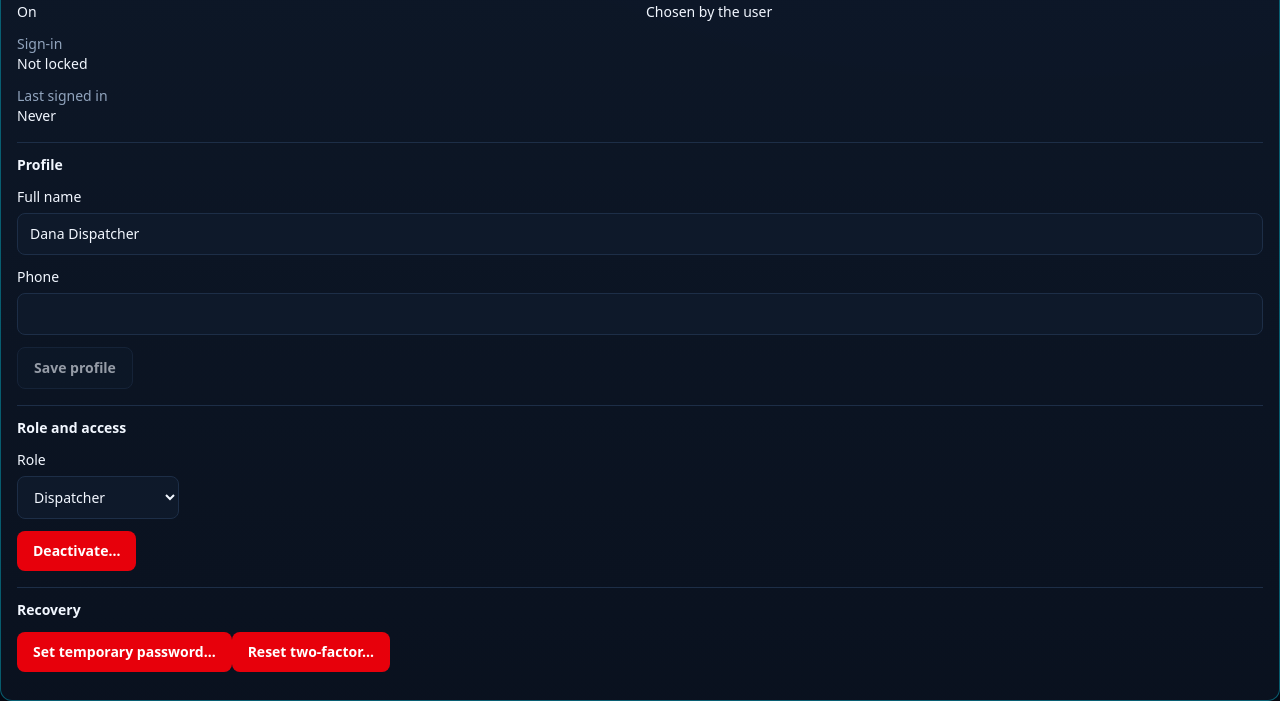
Test: UserDetail › sets a temporary password only after a confirmation, then shows it once
(page scrolled)
Click the button "Set temporary password…" at (124, 652), box left=17, top=632, right=232, bottom=672
(page scrolled)
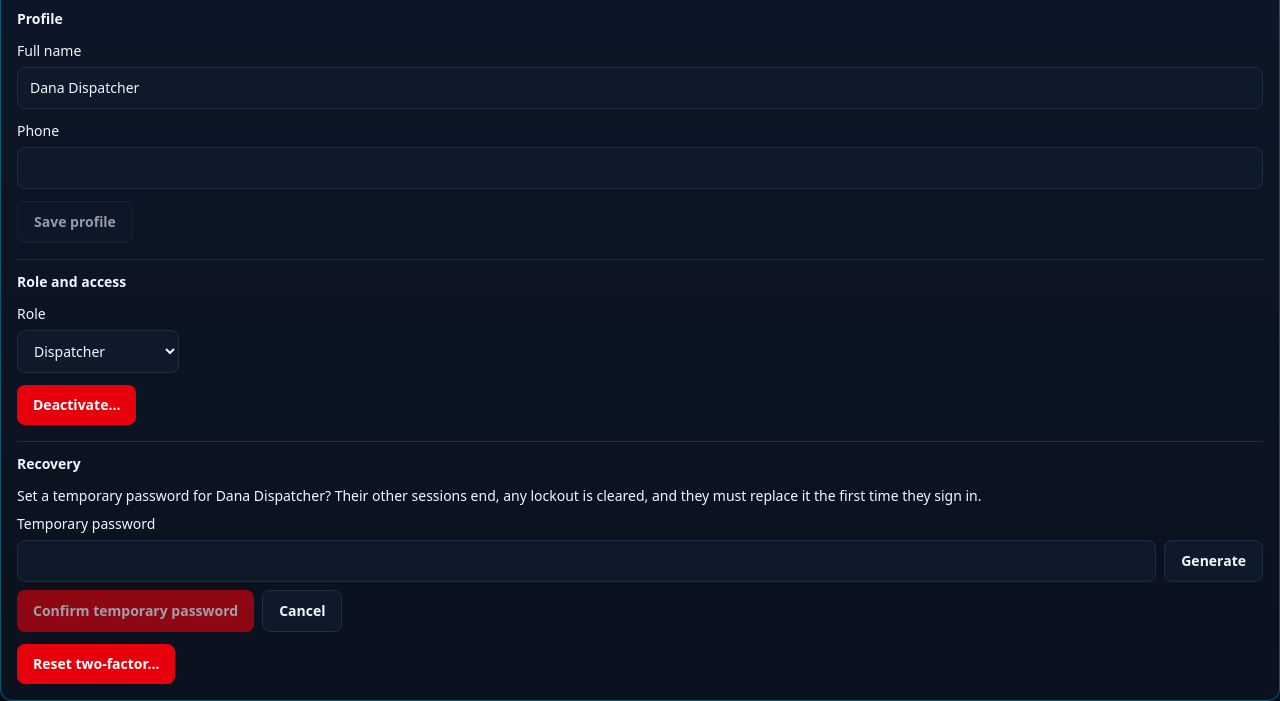
Expected: the button "Confirm temporary password" is disabled, left=17, top=590, right=254, bottom=632
Type "temporary-passphrase-abc" into the field labelled "Temporary password Generate" at (587, 561), box left=17, top=540, right=1156, bottom=582
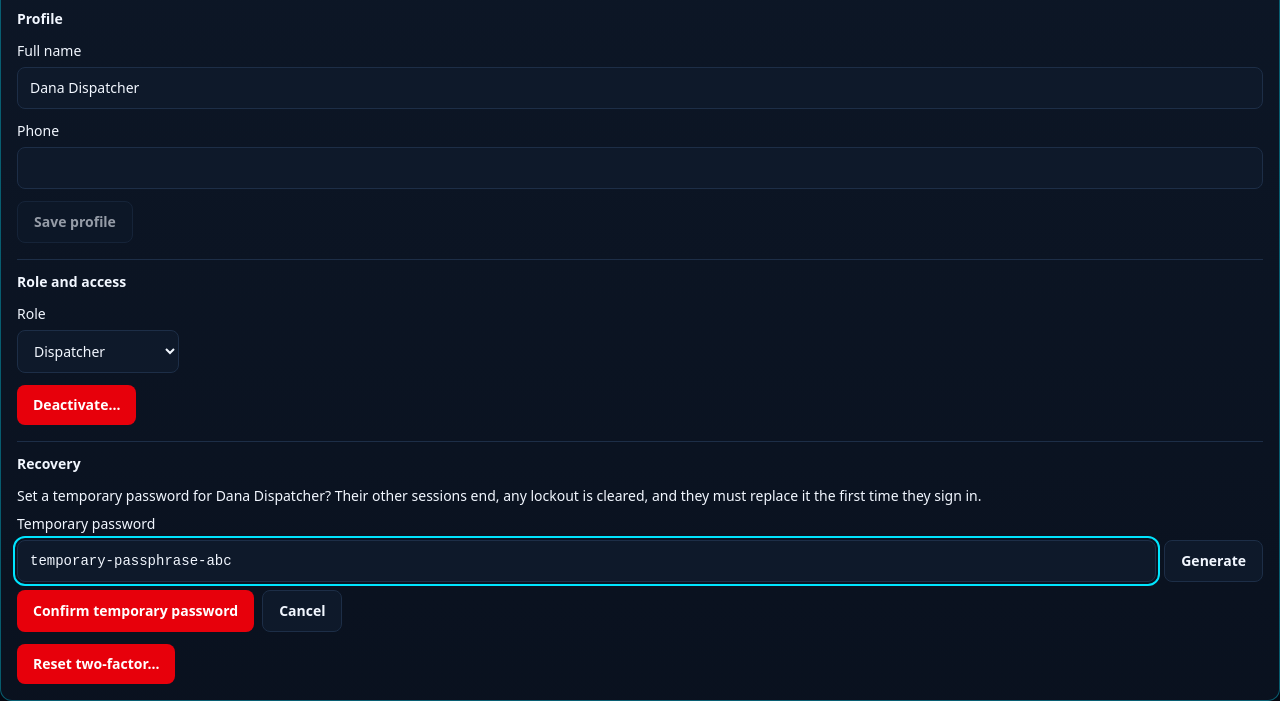
Click the button "Confirm temporary password" at (136, 611), box left=17, top=590, right=254, bottom=632
(page scrolled)
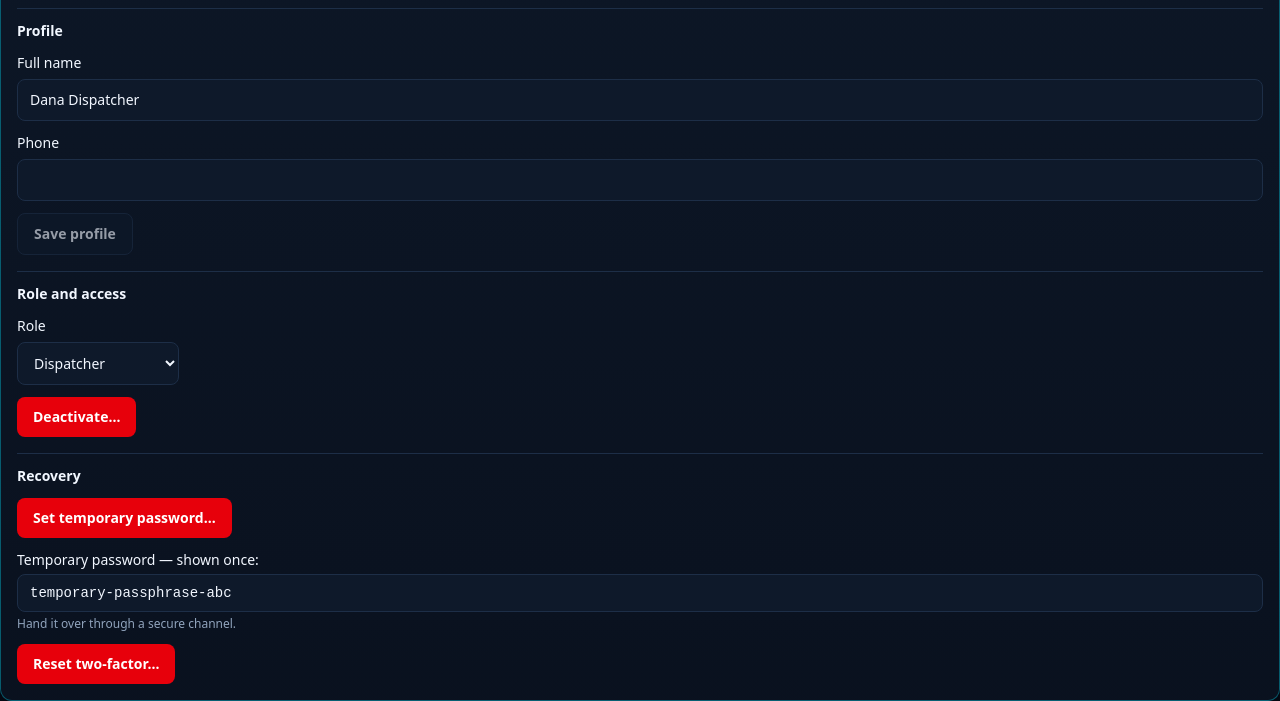
Expected: the text named "Temporary password" reads "temporary-passphrase-abc", left=30, top=585, right=232, bottom=601
